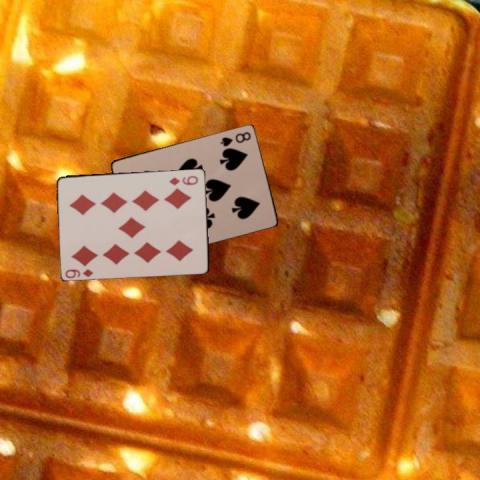8s: (217, 129, 252, 147)
9d: (166, 172, 199, 186), (63, 266, 94, 279)
